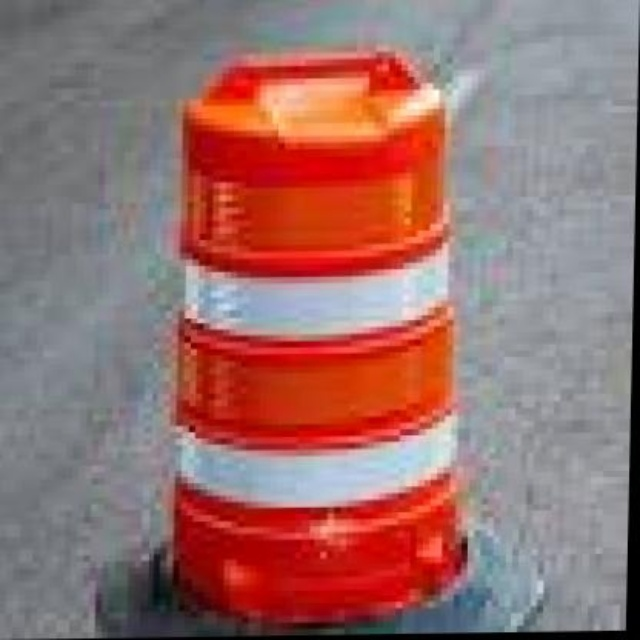obstacle: (161, 57, 516, 638)
